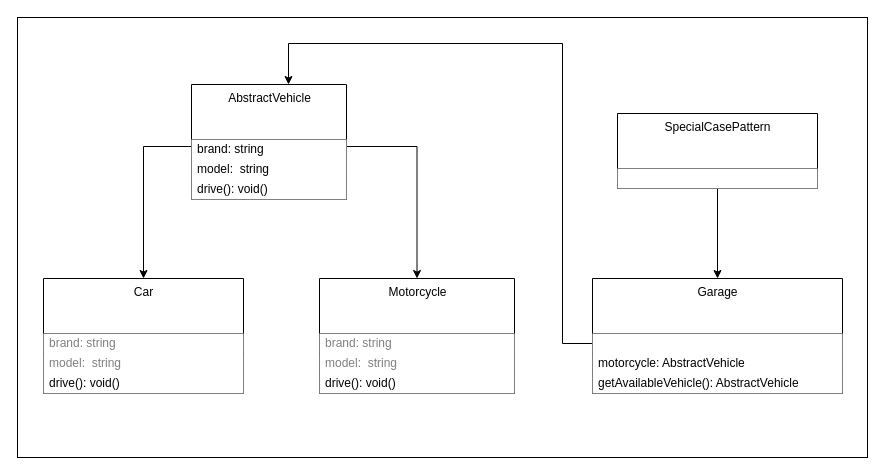
Image size: 885x475. Some labels were removed from this diagram. Here are the shapes that lost their labels. From the top down, the centre of each, then its label:
the point at 717,178: main(): void
the point at 717,343: car: AbstractVehicle
